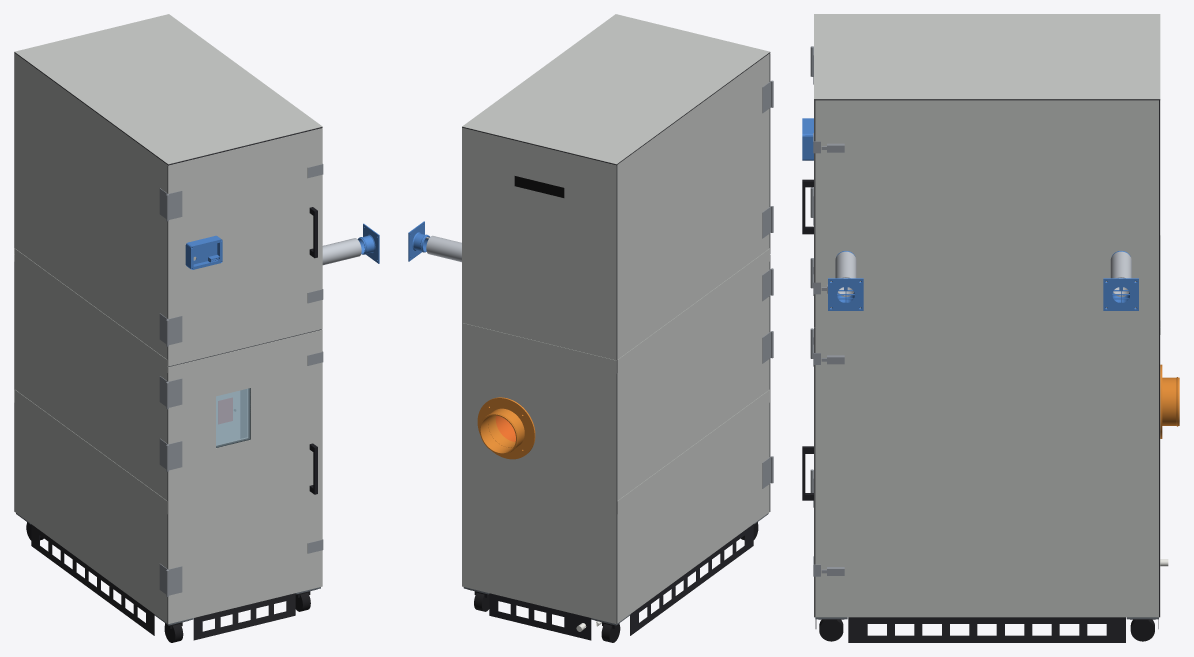
File: SRA16_complete_assembly.glb
3 views of the same model, side by side, from view 1: azimuth 30°, elevation 25°; view 2: azimuth 150°, elevation 25°; view 3: azimuth 270°, elevation 25° (orthographic). The views are drawn at different scales.
Visible parts, largest first — view 1: Door lower (AC bay), Side panel left 3, Door upper (rack), Top panel, Side panel left 2, Side panel left 1, Skirt left, Joint strip left 2, Joint strip left 1, Skirt front, Window pane outer, Window pane inner (+9 smaller); view 2: Rear panel 1, Rear panel 2, Side panel left 3, Top panel, Side panel left 2, Side panel left 1, Skirt left, Joint strip rear 1, Joint strip left 2, Joint strip left 1, Skirt rear, P5-1 Wall spigot - flange + inner tube (+5 smaller); view 3: Side panel right 3, Side panel right 2, Side panel right 1, Top panel, Skirt right, Joint strip right 1, Joint strip right 2, P12-1 Office wall grille (supply), P12-1 Office wall grille (return), P5-2 Wall spigot - outer tube, Top panel MLV, Office supply duct (flex 60) (+2 smaller).
Part boxes in pixels (left/top/right/bottom): Door lower (AC bay): left=168, top=329, right=322, bottom=624; Side panel left 3: left=15, top=53, right=167, bottom=359; Door upper (rack): left=168, top=128, right=322, bottom=366; Top panel: left=14, top=14, right=322, bottom=164; Side panel left 2: left=15, top=262, right=167, bottom=500; Side panel left 1: left=15, top=403, right=167, bottom=623; Skirt left: left=31, top=524, right=154, bottom=635; Joint strip left 2: left=14, top=248, right=167, bottom=372; Joint strip left 1: left=14, top=390, right=167, bottom=513; Skirt front: left=193, top=593, right=295, bottom=640; Window pane outer: left=216, top=388, right=250, bottom=447; Window pane inner: left=216, top=389, right=247, bottom=445; Rear panel 1: left=462, top=336, right=616, bottom=623; Rear panel 2: left=462, top=127, right=616, bottom=360; Side panel left 3: left=617, top=53, right=769, bottom=359; Top panel: left=462, top=14, right=769, bottom=164; Side panel left 2: left=617, top=262, right=769, bottom=500; Side panel left 1: left=617, top=403, right=769, bottom=623; Skirt left: left=630, top=524, right=753, bottom=635; Joint strip rear 1: left=462, top=323, right=616, bottom=373; Joint strip left 2: left=617, top=248, right=769, bottom=372; Joint strip left 1: left=617, top=389, right=769, bottom=513; Skirt rear: left=489, top=593, right=591, bottom=640; P5-1 Wall spigot - flange + inner tube: left=477, top=397, right=535, bottom=459; Side panel right 3: left=815, top=100, right=1158, bottom=320; Side panel right 2: left=815, top=335, right=1158, bottom=479; Side panel right 1: left=815, top=494, right=1158, bottom=617; Top panel: left=814, top=14, right=1160, bottom=99; Skirt right: left=848, top=617, right=1125, bottom=642; Joint strip right 1: left=815, top=479, right=1158, bottom=493; Joint strip right 2: left=815, top=320, right=1158, bottom=334; P12-1 Office wall grille (supply): left=828, top=278, right=863, bottom=310; P12-1 Office wall grille (return): left=1103, top=278, right=1138, bottom=310; P5-2 Wall spigot - outer tube: left=1162, top=377, right=1179, bottom=426; Top panel MLV: left=814, top=99, right=1160, bottom=100; Office supply duct (flex 60): left=835, top=251, right=856, bottom=296.
Size of the model in its own units: 887 by 1870 by 1168.
